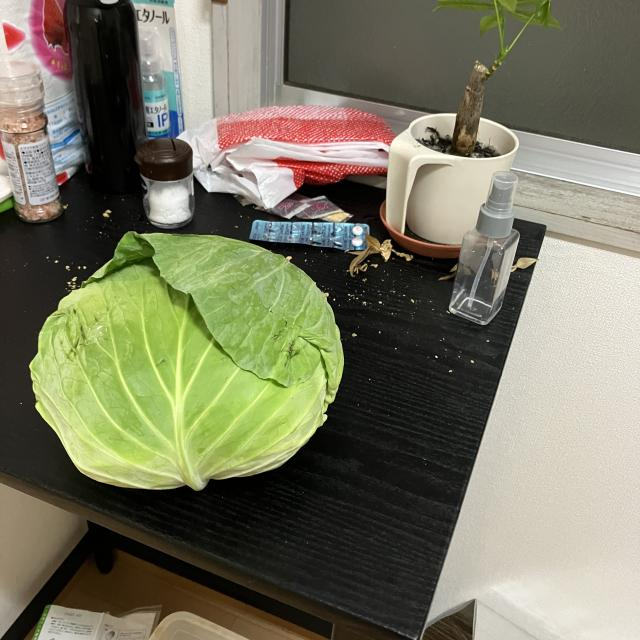cabbage: (23, 228, 348, 501)
